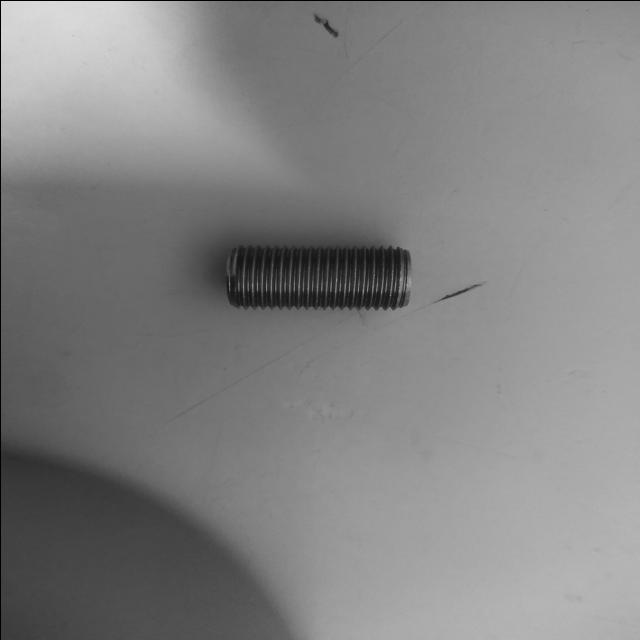Normal: (226, 243, 410, 310)
